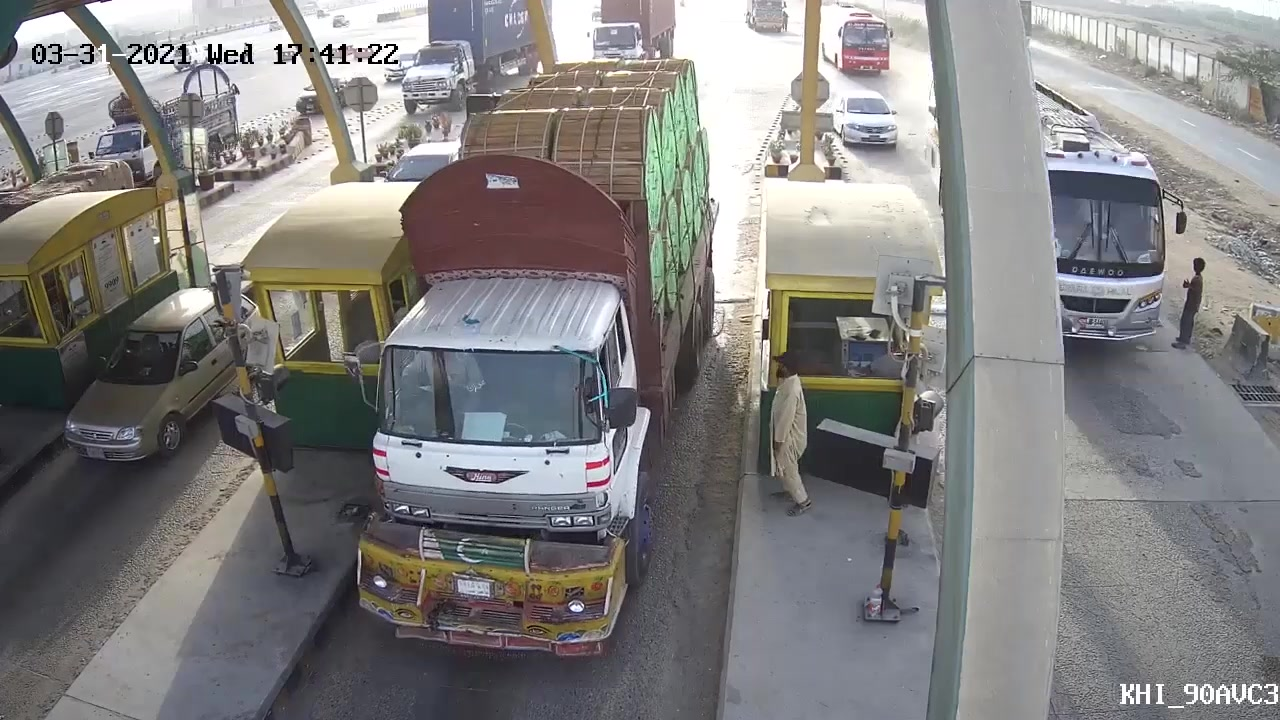F5: (334, 112, 681, 639)
